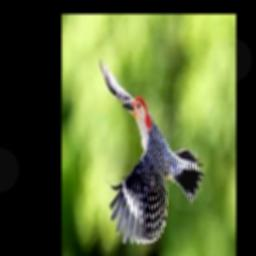Woodpecker: (99, 55, 203, 244)
